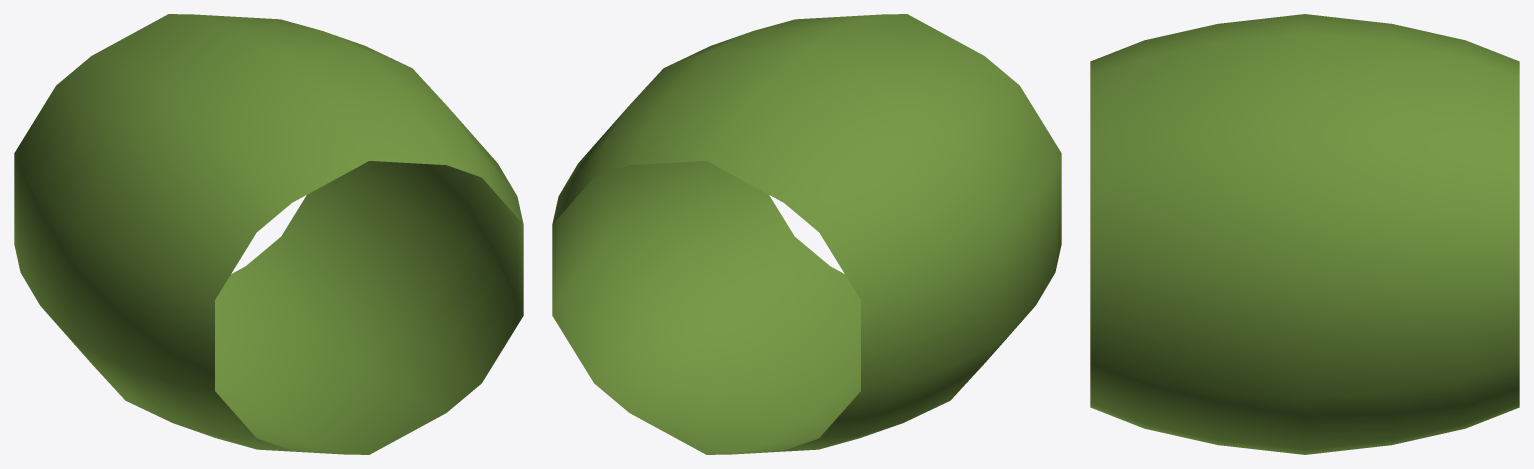
Rendered from body_fat_low.fbx.
3 views of the same model, side by side, from view 1: azimuth 30°, elevation 25°; view 2: azimuth 150°, elevation 25°; view 3: azimuth 270°, elevation 25° (orthographic). The views are drawn at different scales.
Visible parts, largest first — view 1: body_fat; view 2: body_fat; view 3: body_fat.
Part boxes in pixels (box(x1,y1,x2,y2)): body_fat: box(14, 14, 523, 454); body_fat: box(552, 14, 1061, 454); body_fat: box(1090, 14, 1519, 454).
Size of the model in its own units: 113 by 103 by 100.
1 material, 1 textured.
